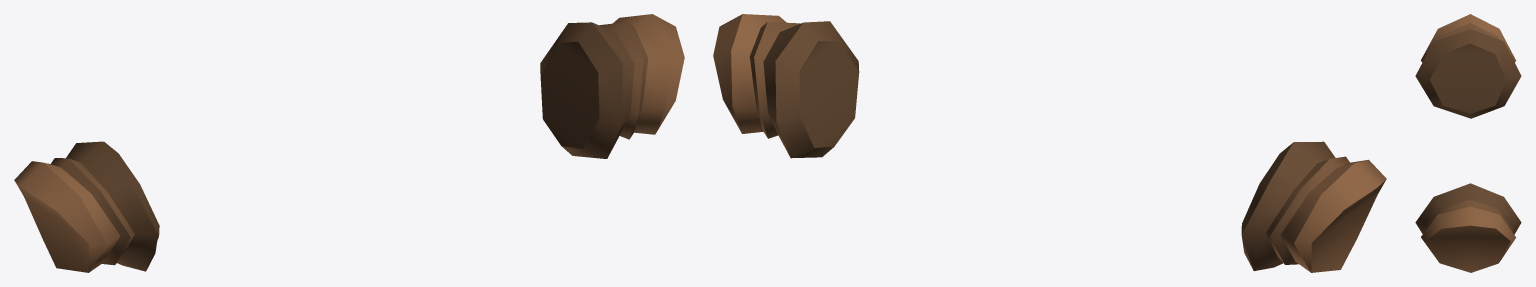
The model's file is Hands_34.fbx.
The picture shows the model from 3 angles, left to right: view 1: azimuth 30°, elevation 25°; view 2: azimuth 150°, elevation 25°; view 3: azimuth 270°, elevation 25°; orthographic projection. The views are drawn at different scales.
Parts seen in each view (by area): view 1: Hands_34; view 2: Hands_34; view 3: Hands_34.
Boxes of the visible parts, x1,y1,x2,y2 form: Hands_34: (14, 14, 684, 272); Hands_34: (713, 14, 1386, 272); Hands_34: (1415, 14, 1521, 272).
Bounding box in the file's own units: 116 × 21.8 × 25.08.
